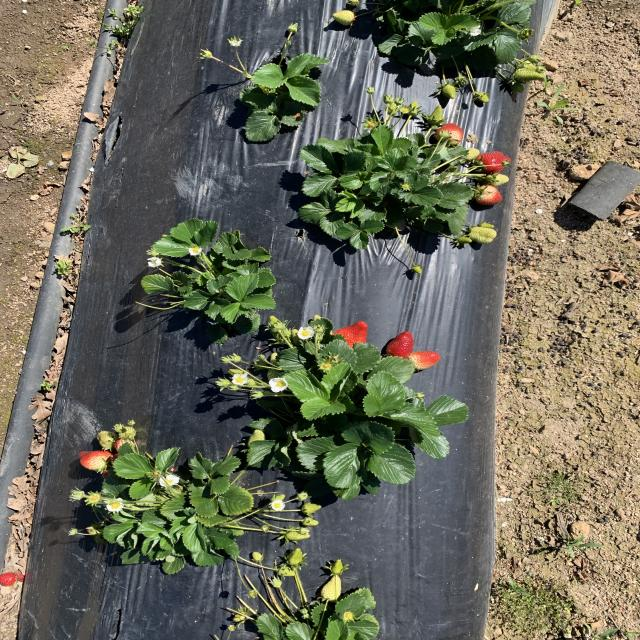unripe: (329, 320, 370, 350), (384, 329, 416, 361), (471, 150, 513, 172), (434, 118, 467, 146), (79, 451, 111, 472), (407, 351, 442, 370), (473, 183, 504, 204), (0, 571, 18, 590), (110, 454, 130, 470), (100, 468, 116, 482)
